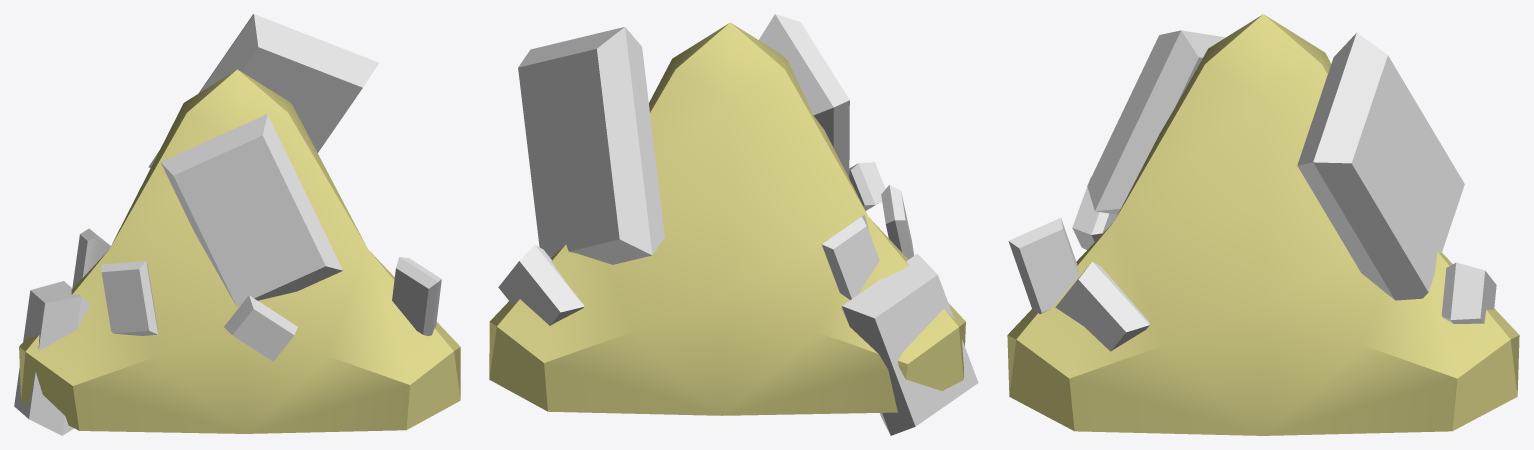
The model's file is Sulphur.fbx.
3 views of the same model, side by side, from view 1: azimuth 30°, elevation 25°; view 2: azimuth 150°, elevation 25°; view 3: azimuth 270°, elevation 25° (orthographic). The views are drawn at different scales.
Parts seen in each view (by area): view 1: Sulphur; view 2: Sulphur; view 3: Sulphur.
Boxes of the visible parts, left/top/right/bottom form: Sulphur: left=14, top=14, right=460, bottom=435; Sulphur: left=489, top=14, right=978, bottom=435; Sulphur: left=1007, top=14, right=1519, bottom=435.
Size of the model in its own units: 138 by 116 by 139.
